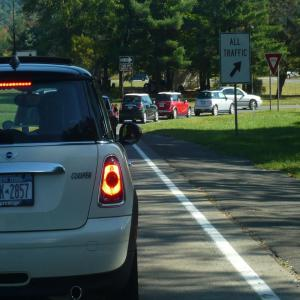Vehicle-registration-plate: (1, 175, 33, 207)
